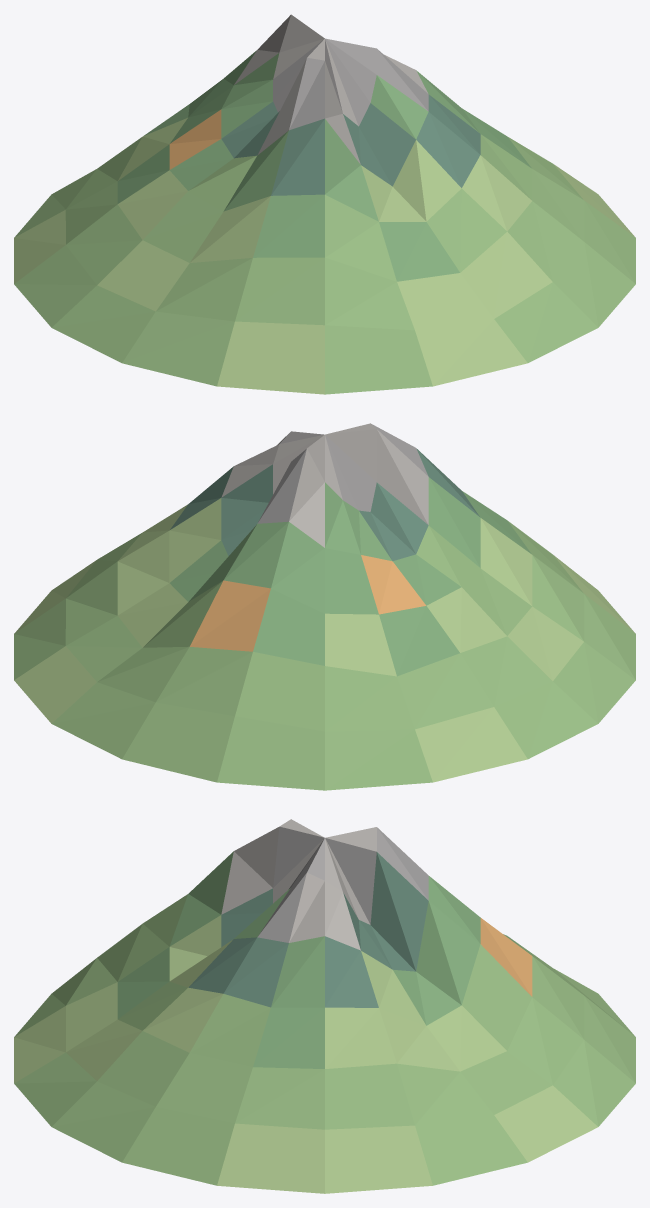
File: bg_mountain_cone_a.glb
3 views of the same model, one above another, from view 1: azimuth 30°, elevation 25°; view 2: azimuth 150°, elevation 25°; view 3: azimuth 270°, elevation 25° (orthographic).
Parts seen in each view (by area): view 1: bg_mountain_cone_a; view 2: bg_mountain_cone_a; view 3: bg_mountain_cone_a.
Part boxes in pixels (x1,y1,x2,y2): bg_mountain_cone_a: (14, 14, 635, 394); bg_mountain_cone_a: (14, 423, 635, 790); bg_mountain_cone_a: (14, 819, 635, 1193).
Bounding box in the file's own units: 180 × 72.22 × 177.
